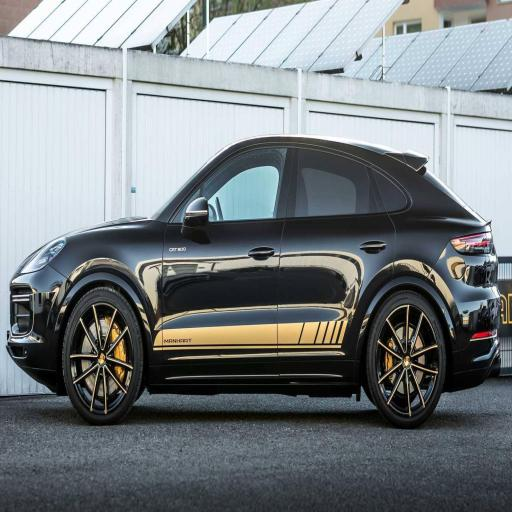Sedan-sDLz: (4, 133, 512, 431)
